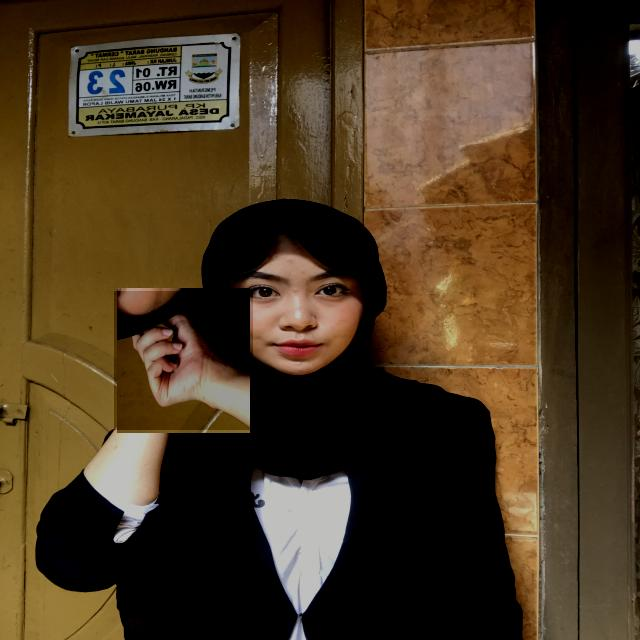ibu: (114, 291, 253, 430)
